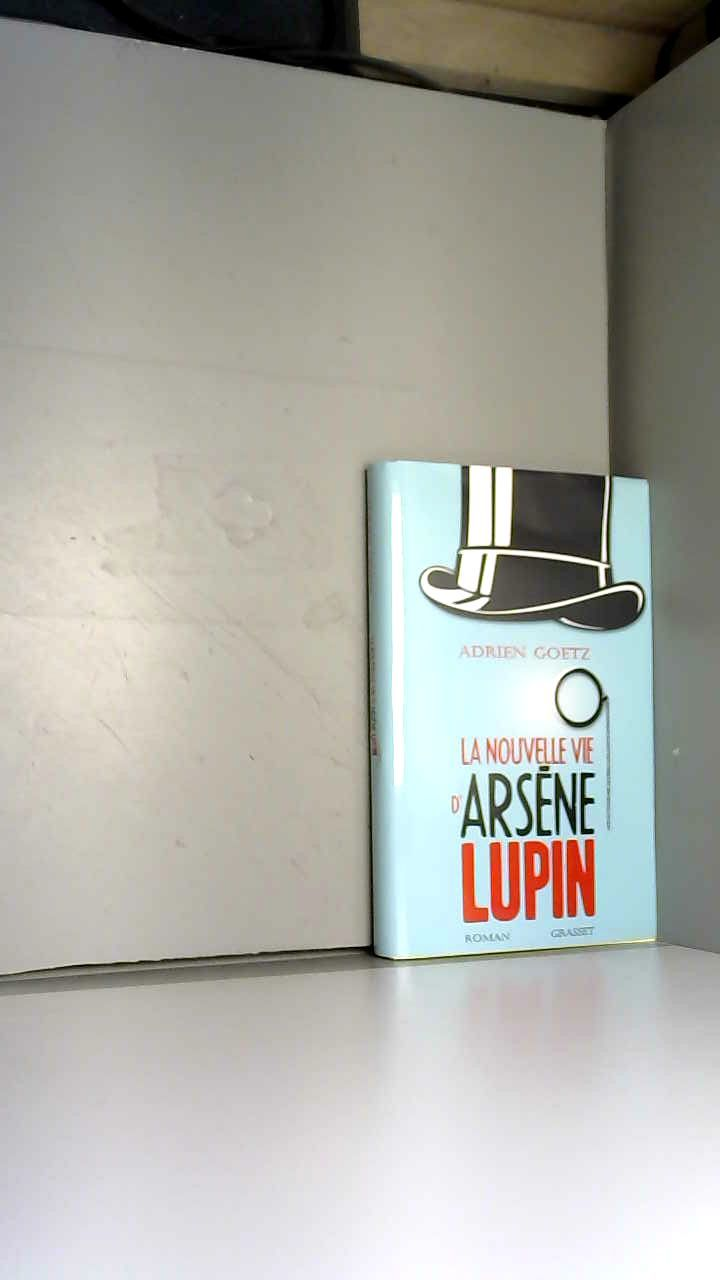book: (322, 413, 694, 993)
